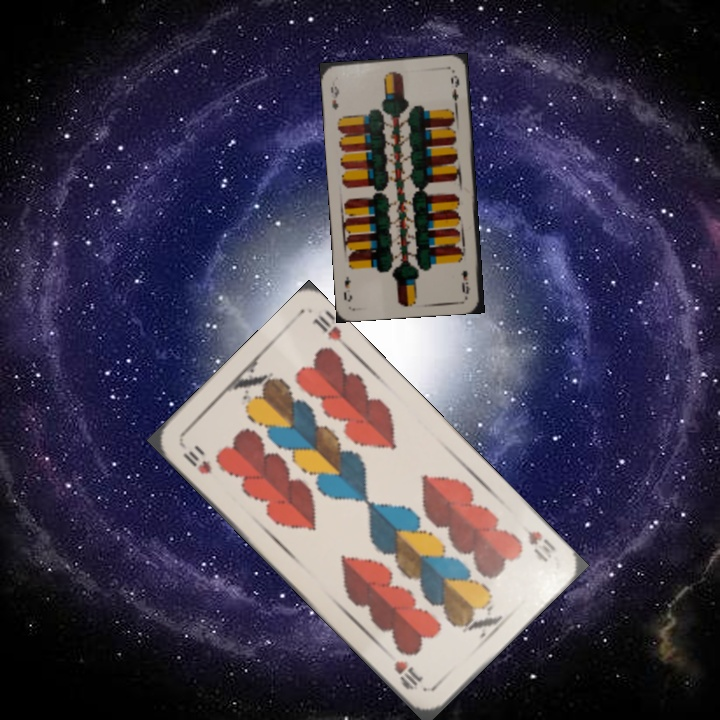E9: (326, 82, 342, 112), (457, 267, 473, 296)
H10: (519, 520, 559, 565), (177, 439, 215, 477)
